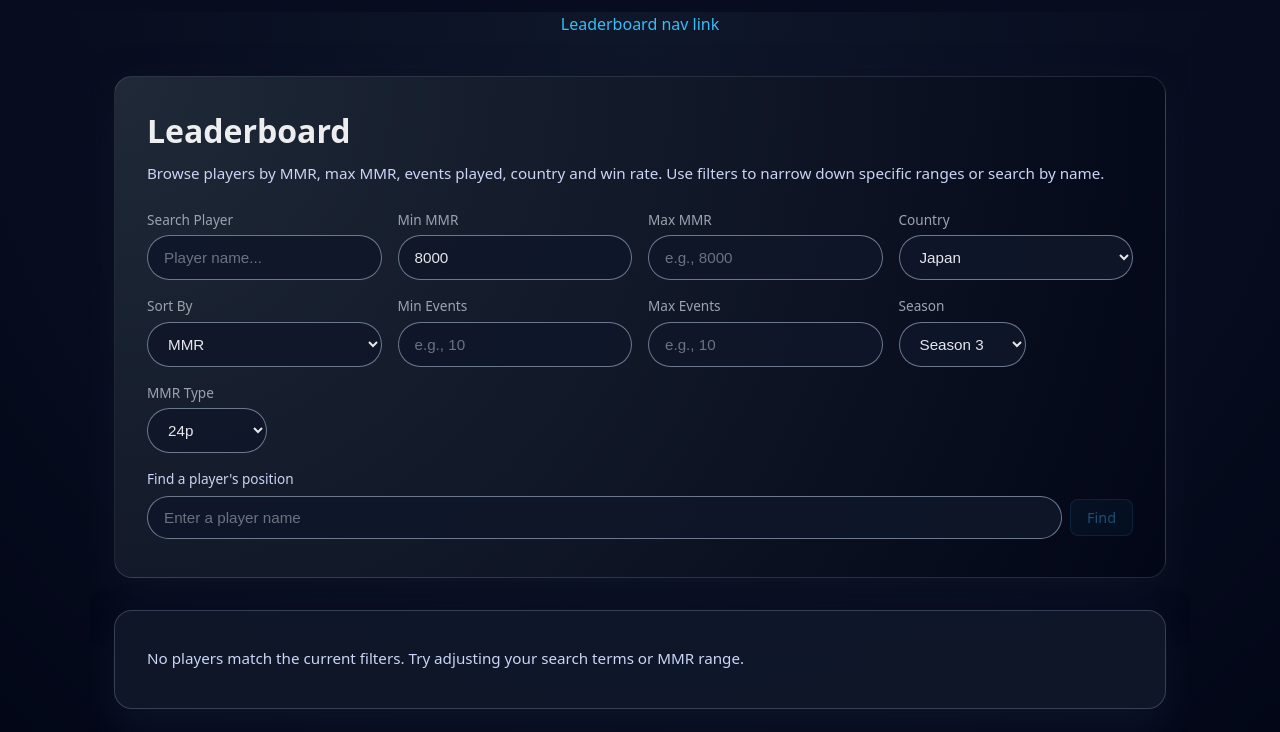
Test: Leaderboard URL sync › resets filters when the nav link to the leaderboard is clicked
Click the link "Leaderboard nav link": point(640, 24) [561,13,719,35]
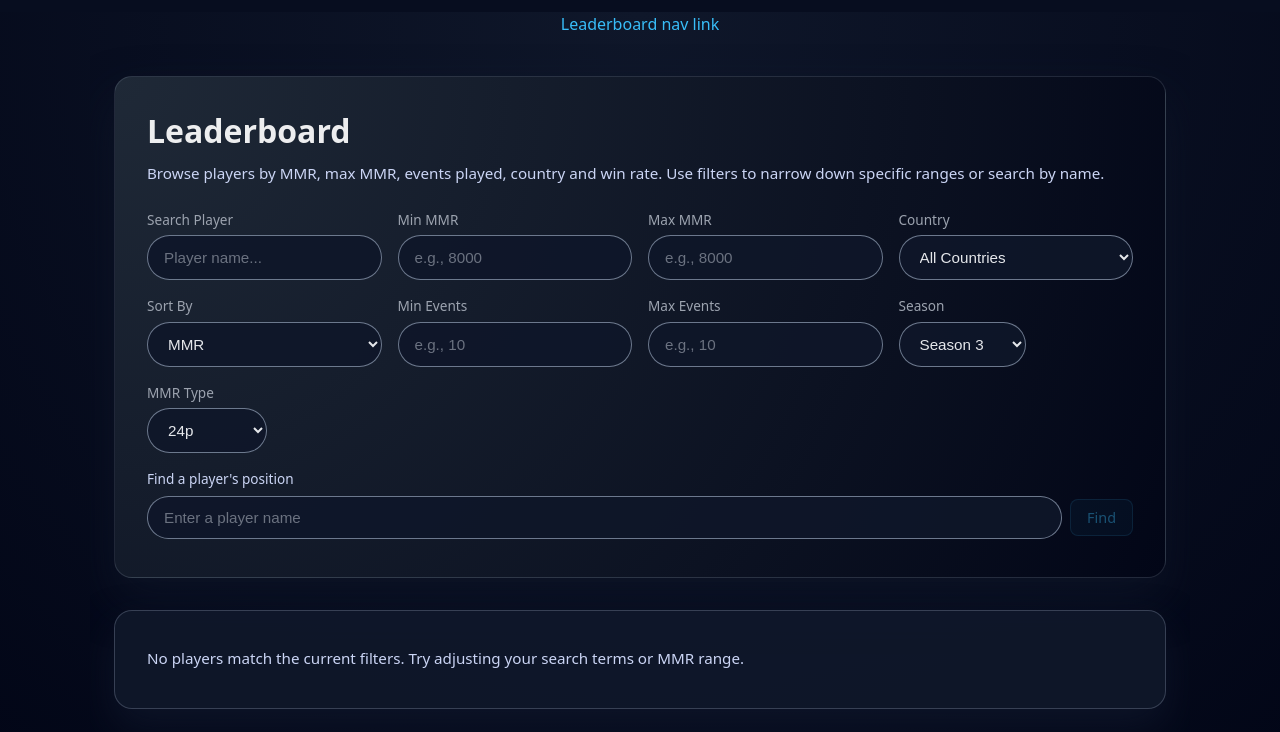
expect the number field labelled "Min MMR" is empty: met, box [398,235,632,280]
expect the dropdown labelled "Country" shows "All Countries": met, box [898,235,1133,280]
